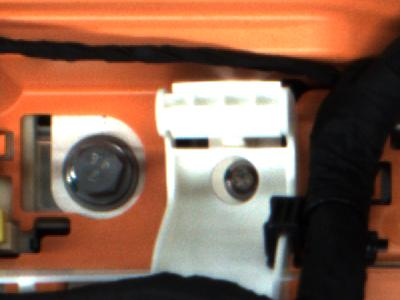nut_b: (53, 134, 145, 212)
